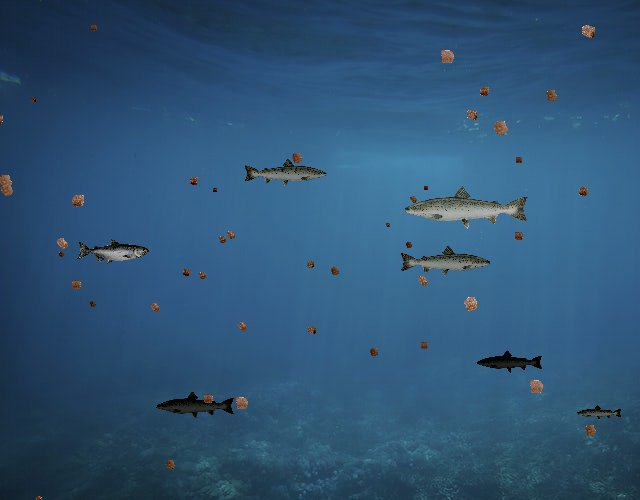Fish: (402, 184, 531, 230), (398, 245, 492, 278), (242, 157, 328, 188), (156, 391, 237, 420), (77, 239, 150, 265), (477, 349, 545, 374), (576, 404, 623, 421)
Pellet: (50, 231, 75, 256), (578, 419, 602, 443), (27, 93, 39, 105), (32, 492, 46, 500)
